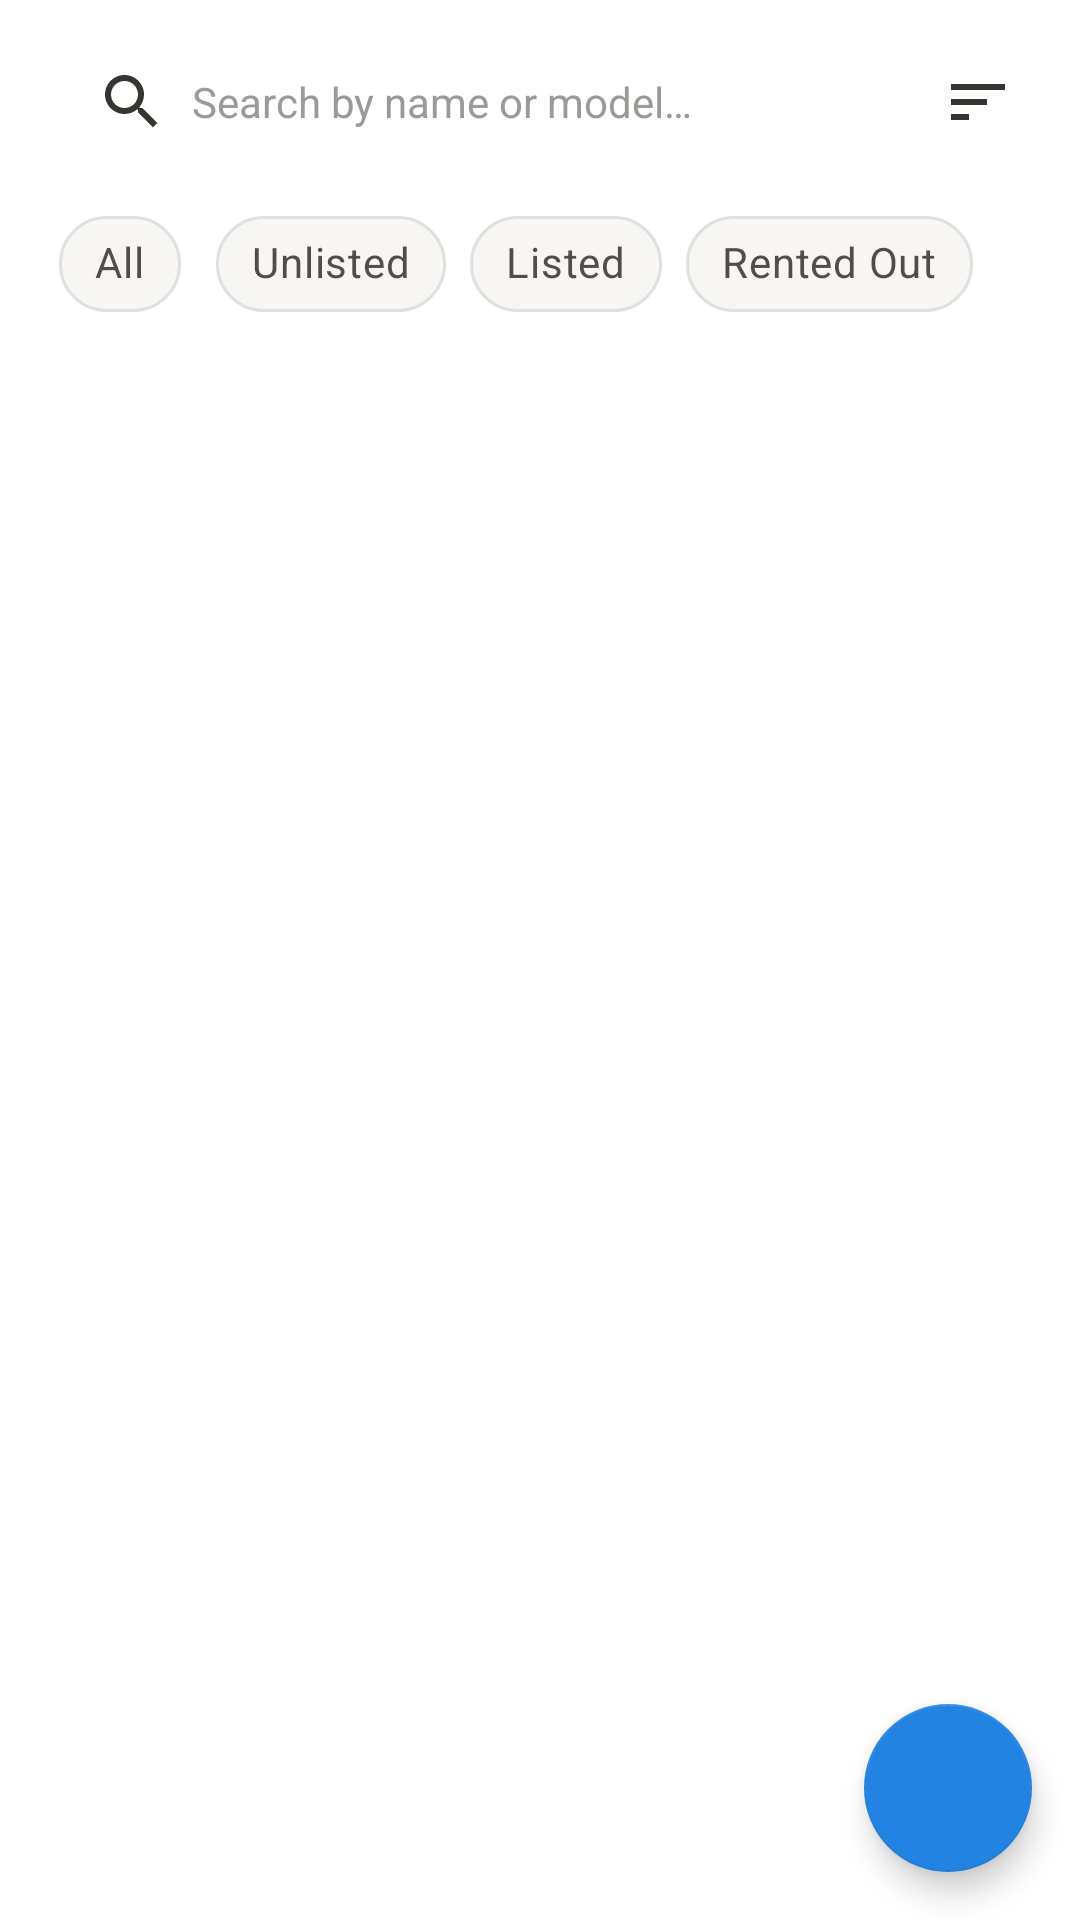

Point at icon controls on the screen. Image size 1080 × 1920, points as (x,y).
Sort cars: (978,102)
